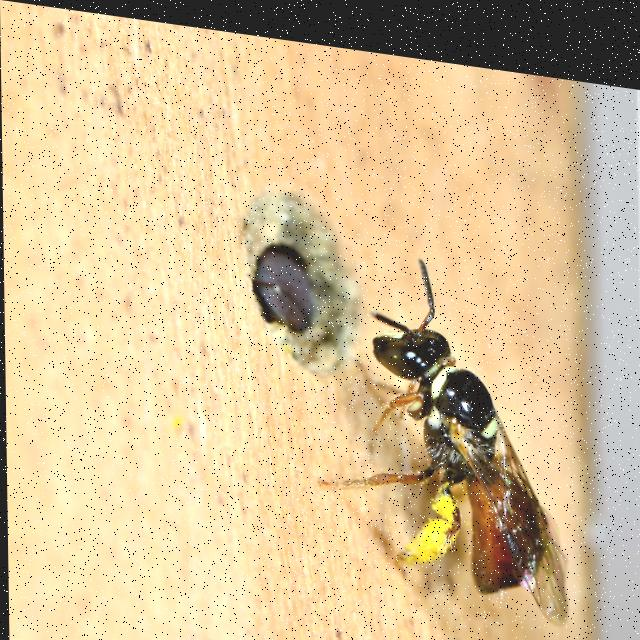Allodapula: (290, 212, 594, 617)
